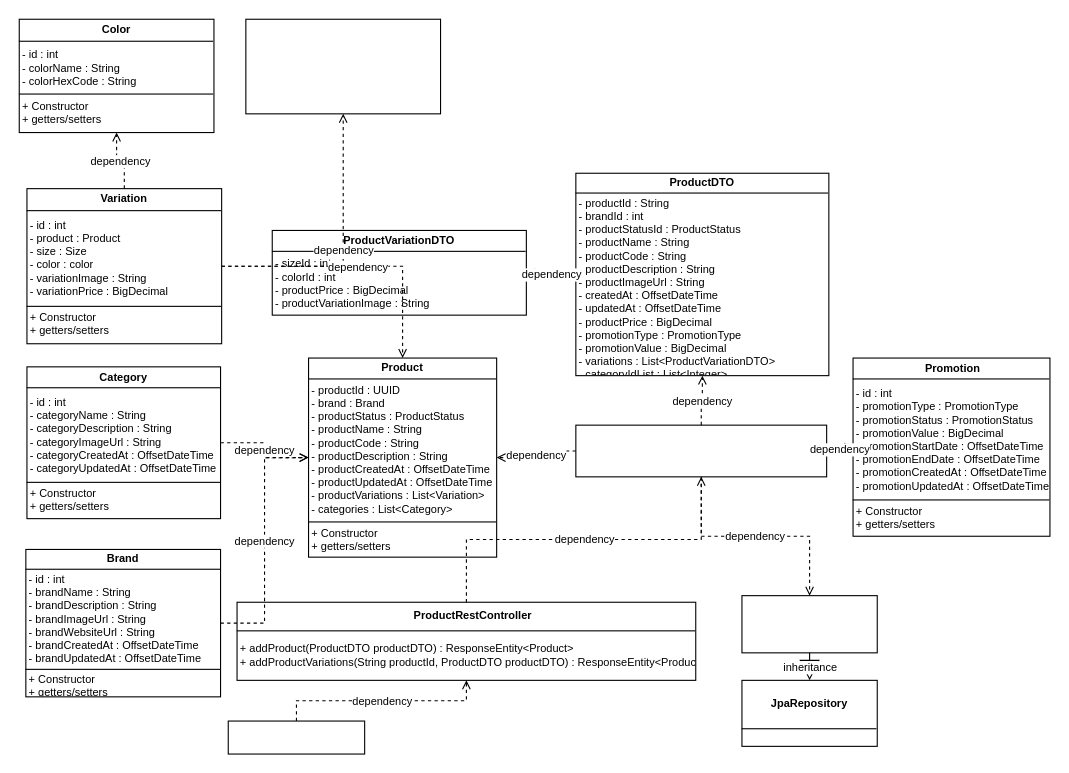
Image size: 1069x773. Some labels were removed from this diagram. The box of each missing label's shape, as (x1, y1, x2, y2) in pixels:
Product Dashboard: (227, 720, 365, 754)
ProductRepository: (741, 595, 877, 653)
ProductService + addProduct(ProductDTO productDTO) : Product: (575, 424, 827, 477)
Size - id : int - sizeName : String + Constructor + getters/setters: (245, 18, 441, 114)
